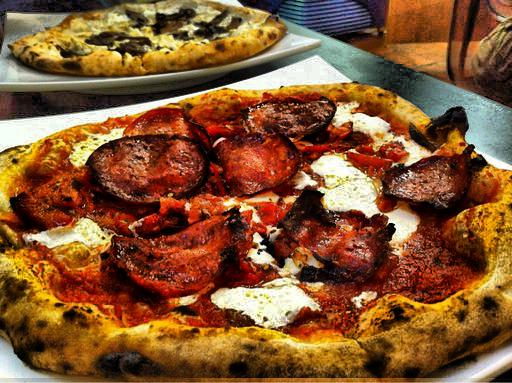pizza: (2, 98, 501, 375)
